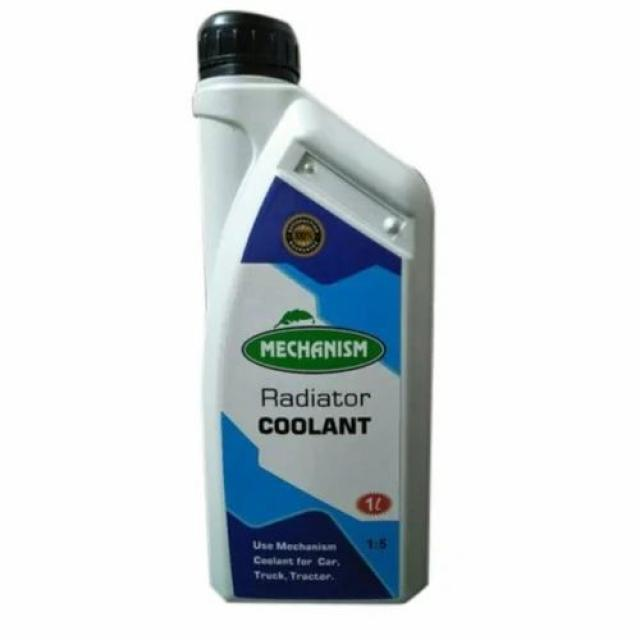coolant: (190, 7, 437, 604)
